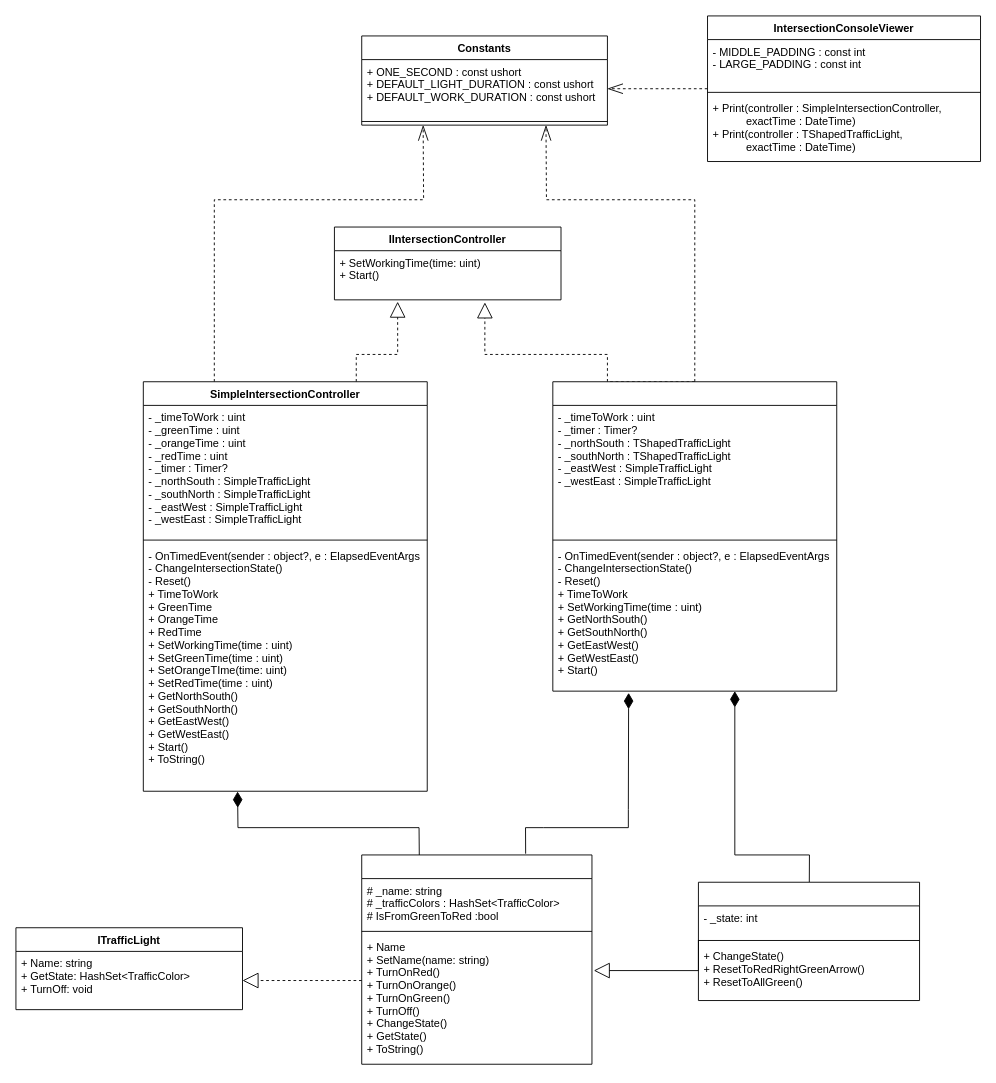
This 996x1083 diagram has some shape labels left out. The shapes that lost their labels are listed below. From the top down, each one's box as (x1, y1, x2, y2) in pixels, then its label:
(552, 381, 837, 691): DoubleIntersectionController
(361, 854, 592, 1064): SimpleTrafficLight
(698, 881, 920, 1001): TShapedTrafficLight
